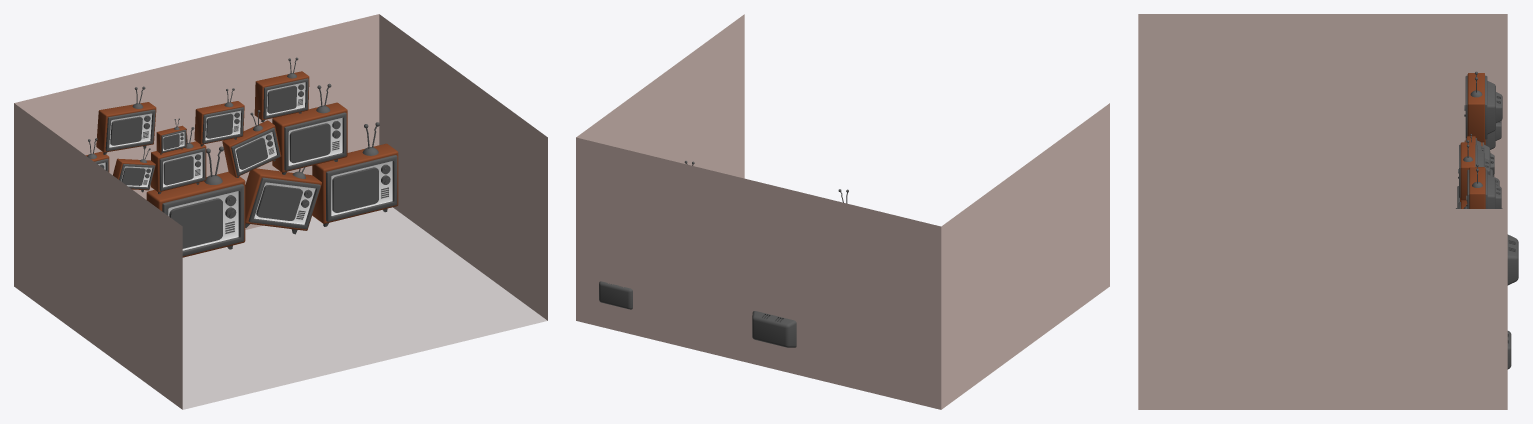
The model's file is Guarida Screen Off.fbx.
3 renders of one model, left to right at view 1: azimuth 30°, elevation 25°; view 2: azimuth 150°, elevation 25°; view 3: azimuth 270°, elevation 25°, orthographic. The views are drawn at different scales.
Parts seen in each view (by area): view 1: Room, Floor, 1Televisor_Cuerpo.003, 1Televisor_Cuerpo.001, 2Televisor_Cuerpo.004, 2Televisor_Cuerpo.003, 1Televisor_Pantalla.001, 1Televisor_Cuerpo.004, 1Televisor_Pantalla.003, 3Televisor_Cuerpo.003, 1Televisor_Cuerpo.002, 2Televisor_Cuerpo.001 (+10 smaller); view 2: Room, 1Televisor_Cuerpo.001, 1Televisor_Cuerpo.003; view 3: Room, 1Televisor_Cuerpo.004, 3Televisor_Cuerpo.003, 2Televisor_Cuerpo.005, 1Televisor_Cuerpo.001.
Boxes of the visible parts, x1,y1,x2,y2 form: Room: (14, 14, 547, 409); Floor: (182, 207, 547, 409); 1Televisor_Cuerpo.003: (312, 122, 398, 226); 1Televisor_Cuerpo.001: (146, 146, 245, 257); 2Televisor_Cuerpo.004: (272, 83, 347, 174); 2Televisor_Cuerpo.003: (245, 167, 321, 234); 1Televisor_Pantalla.001: (169, 198, 222, 248); 1Televisor_Cuerpo.004: (96, 86, 156, 154); 1Televisor_Pantalla.003: (332, 167, 378, 212); 3Televisor_Cuerpo.003: (254, 57, 309, 122); 1Televisor_Cuerpo.002: (222, 110, 281, 177); 2Televisor_Cuerpo.001: (151, 127, 206, 194); Room: (576, 14, 1109, 409); 1Televisor_Cuerpo.001: (752, 311, 796, 347); 1Televisor_Cuerpo.003: (599, 281, 632, 309); Room: (1138, 14, 1507, 409); 1Televisor_Cuerpo.004: (1465, 71, 1502, 142); 3Televisor_Cuerpo.003: (1467, 164, 1501, 208); 2Televisor_Cuerpo.005: (1459, 140, 1490, 202); 1Televisor_Cuerpo.001: (1456, 208, 1518, 285).
Size of the model in its own units: 500 by 240 by 412.
